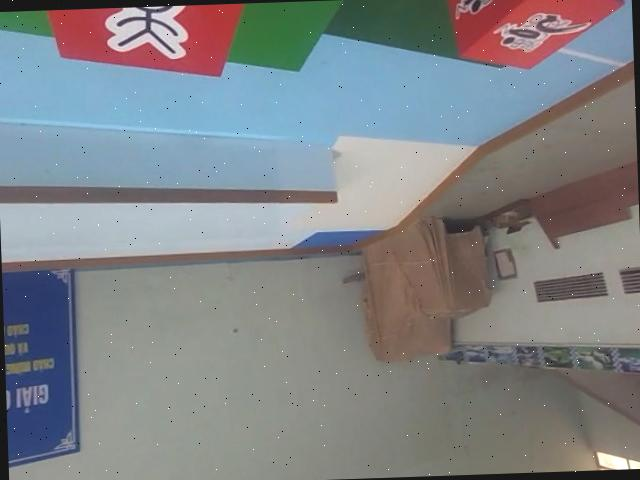R1: (443, 0, 633, 72)
R2 Real: (37, 3, 251, 90)
